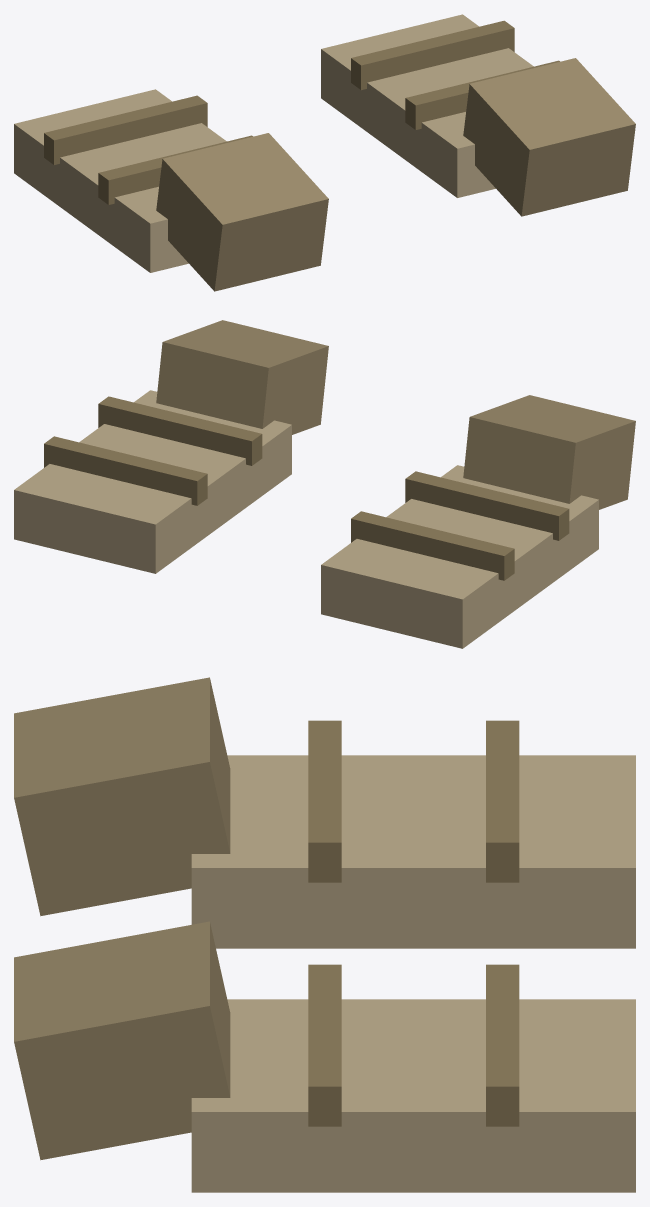
The model's file is gear_sin_t1.glb.
3 views of the same model, one above another, from view 1: azimuth 30°, elevation 25°; view 2: azimuth 150°, elevation 25°; view 3: azimuth 270°, elevation 25° (orthographic). The views are drawn at different scales.
Visible parts, largest first — view 1: gear_sin_t1; view 2: gear_sin_t1; view 3: gear_sin_t1.
Boxes of the visible parts, x1,y1,x2,y2 form: gear_sin_t1: [14, 14, 635, 291]; gear_sin_t1: [14, 320, 635, 648]; gear_sin_t1: [14, 677, 635, 1192].
Size of the model in its own units: 0.39 by 0.0857 by 0.2801.
